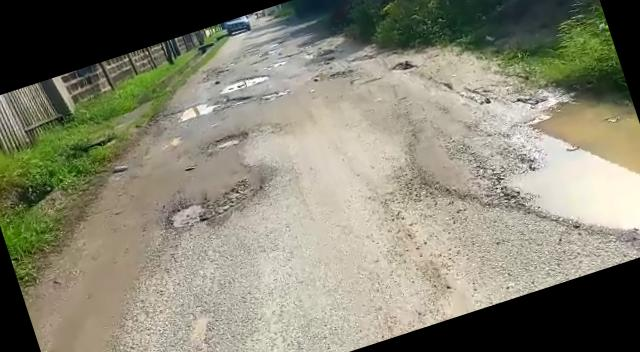pothole: (482, 75, 640, 289), (162, 184, 255, 232), (218, 70, 270, 96), (175, 97, 222, 124), (202, 128, 249, 154)
